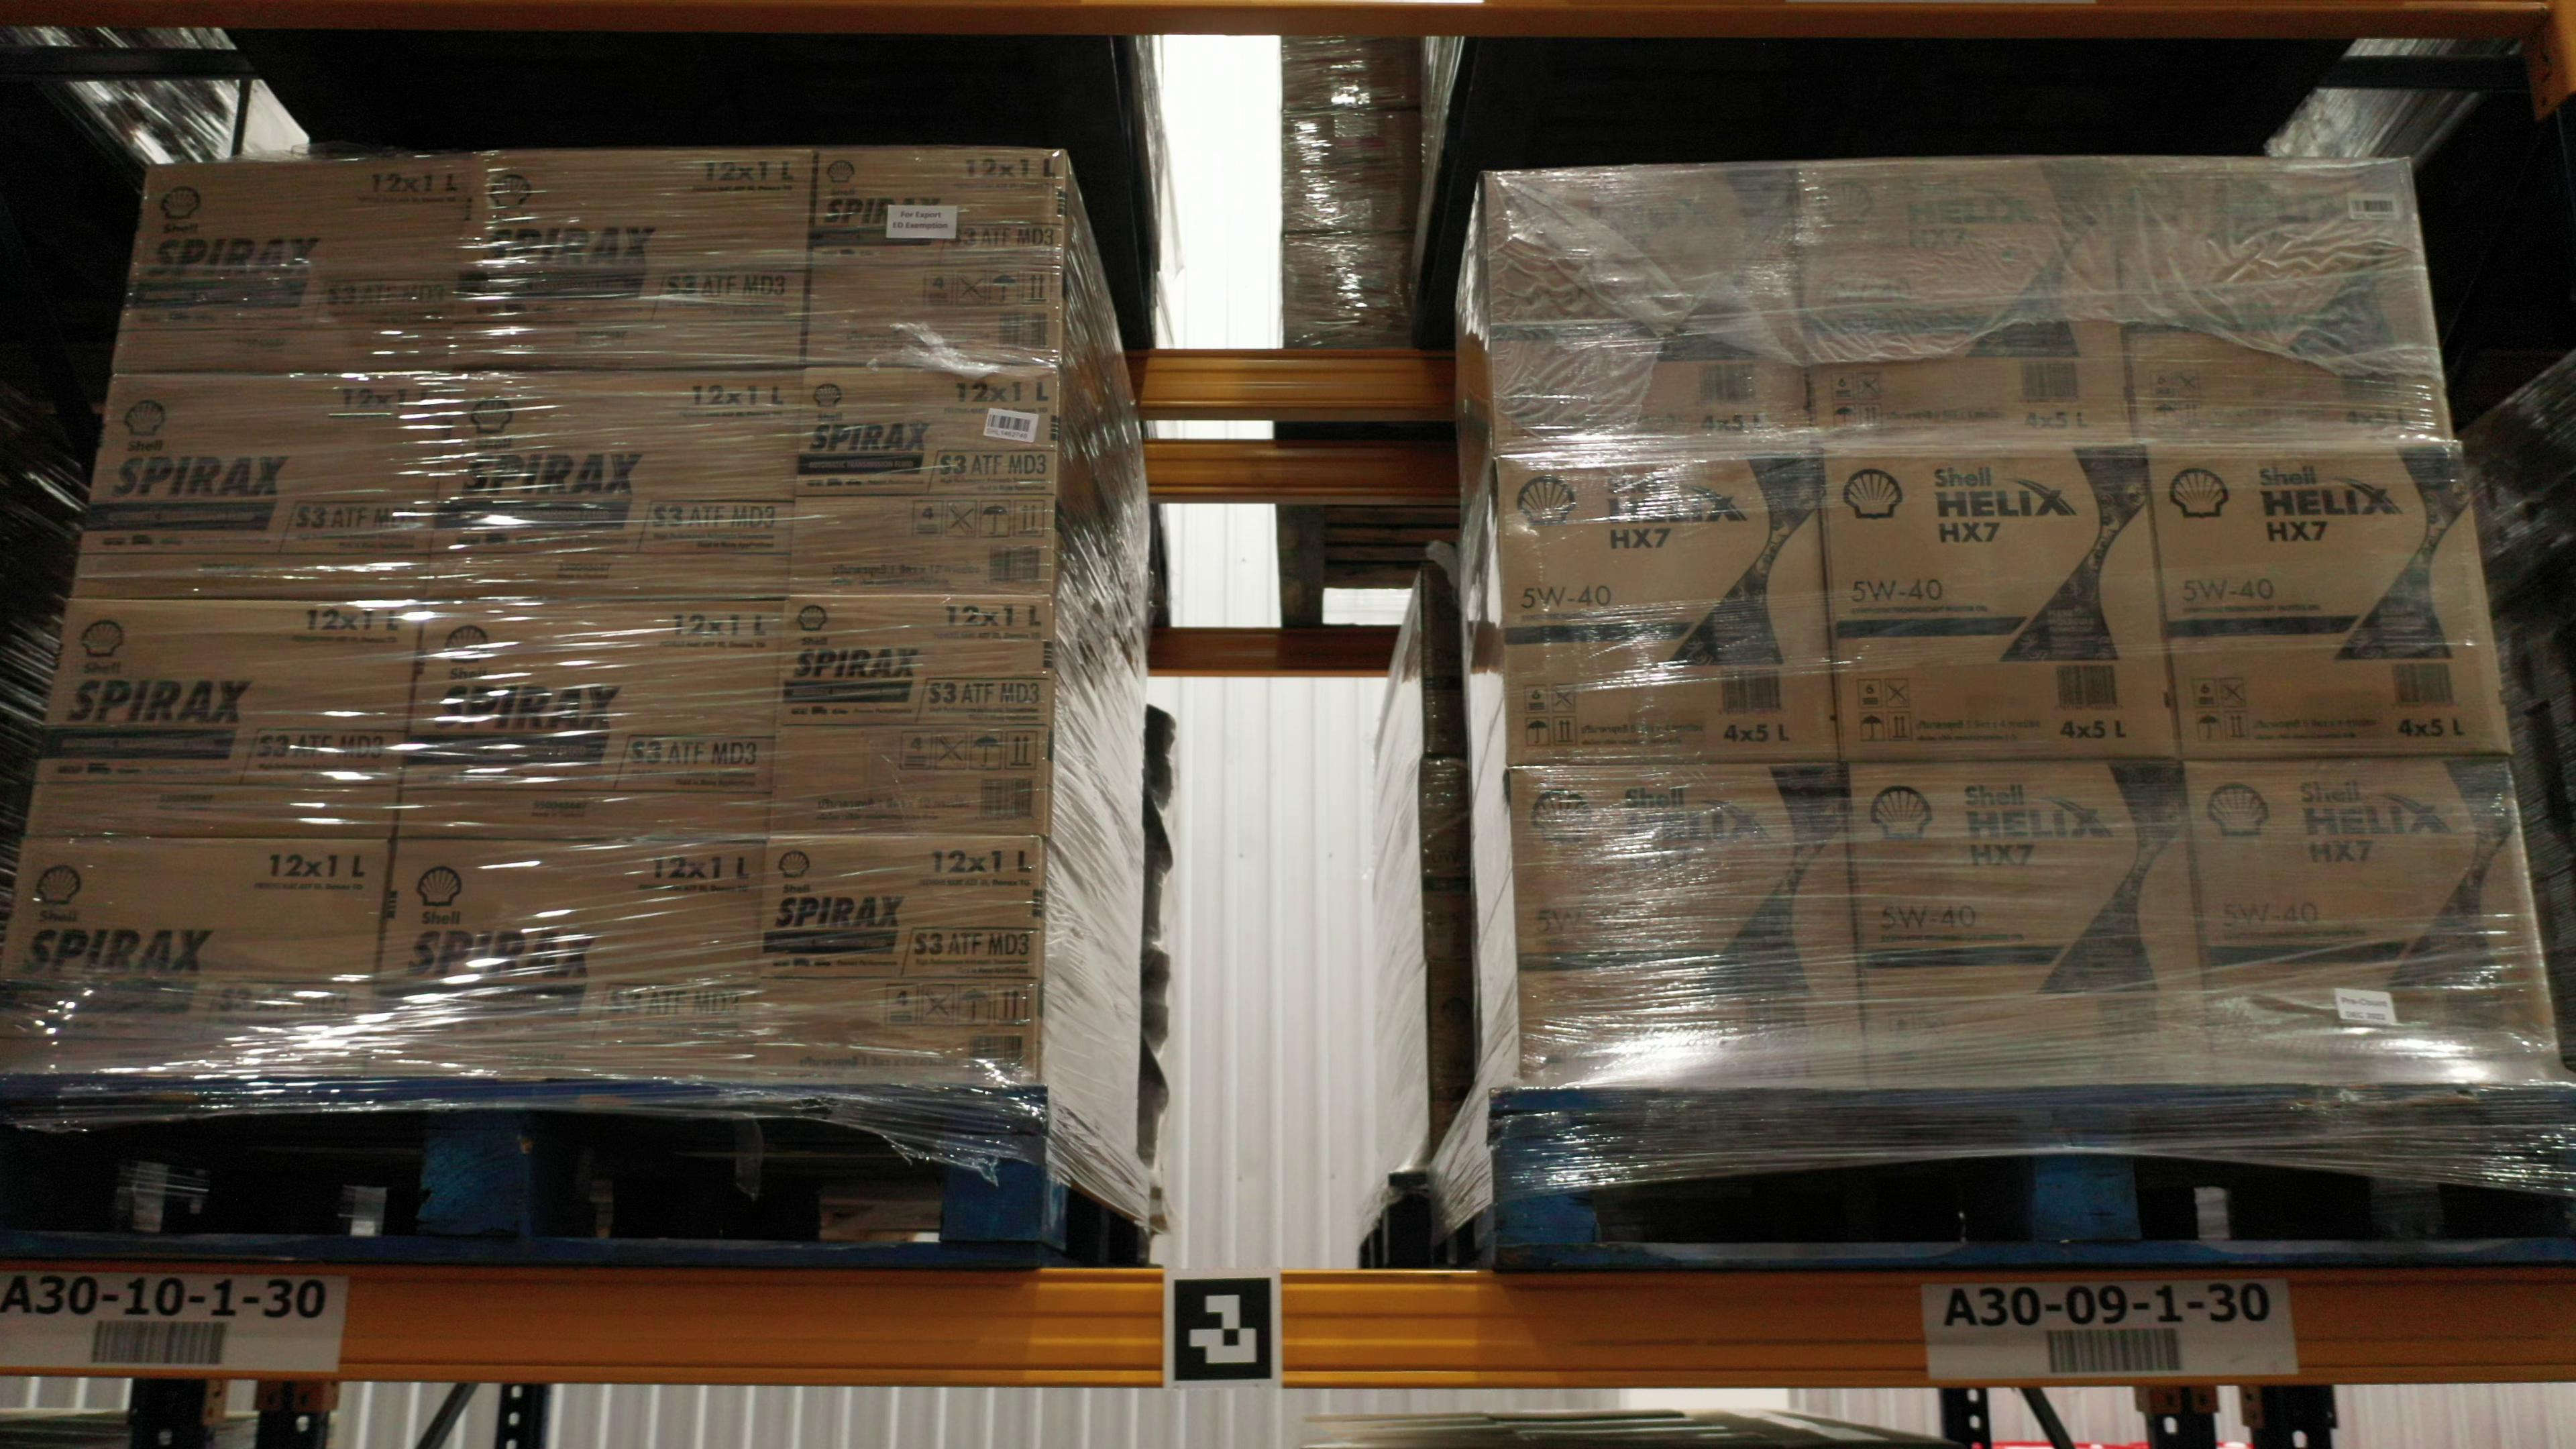-: (2183, 755, 2562, 1086), (1849, 761, 2217, 1090), (1511, 763, 1872, 1092), (2146, 441, 2514, 757), (1819, 448, 2178, 763), (1497, 455, 1842, 768), (1796, 154, 2141, 449), (2109, 156, 2456, 448), (364, 837, 770, 1085), (25, 596, 425, 842), (1486, 161, 1819, 455), (398, 596, 787, 842), (0, 837, 389, 1077), (71, 372, 455, 602), (423, 370, 803, 602), (451, 145, 814, 373), (119, 154, 469, 373), (754, 833, 1049, 1086), (770, 593, 1056, 837), (789, 359, 1065, 596), (803, 147, 1069, 363)
